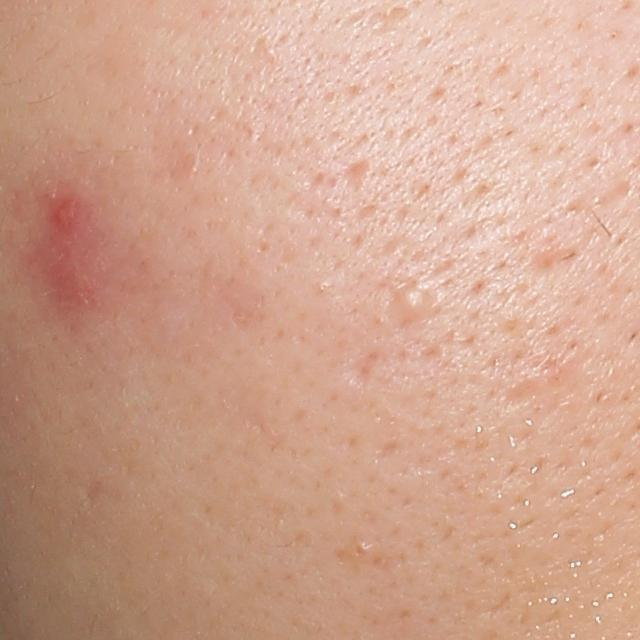atrophic_scar: (495, 372, 561, 417), (524, 248, 585, 279), (362, 2, 417, 35), (342, 156, 375, 196), (349, 351, 381, 389)
comedo: (394, 282, 431, 330)
papule: (45, 186, 85, 238)
